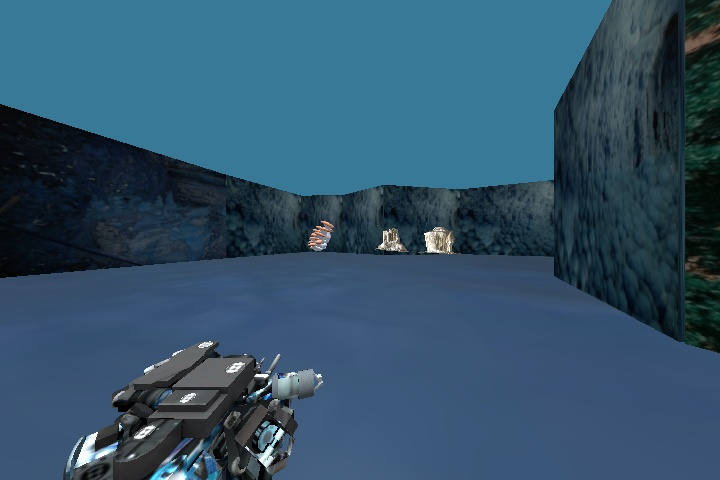formation: (372, 221, 411, 257), (419, 221, 458, 256)
mushrooms: (304, 213, 333, 252)
